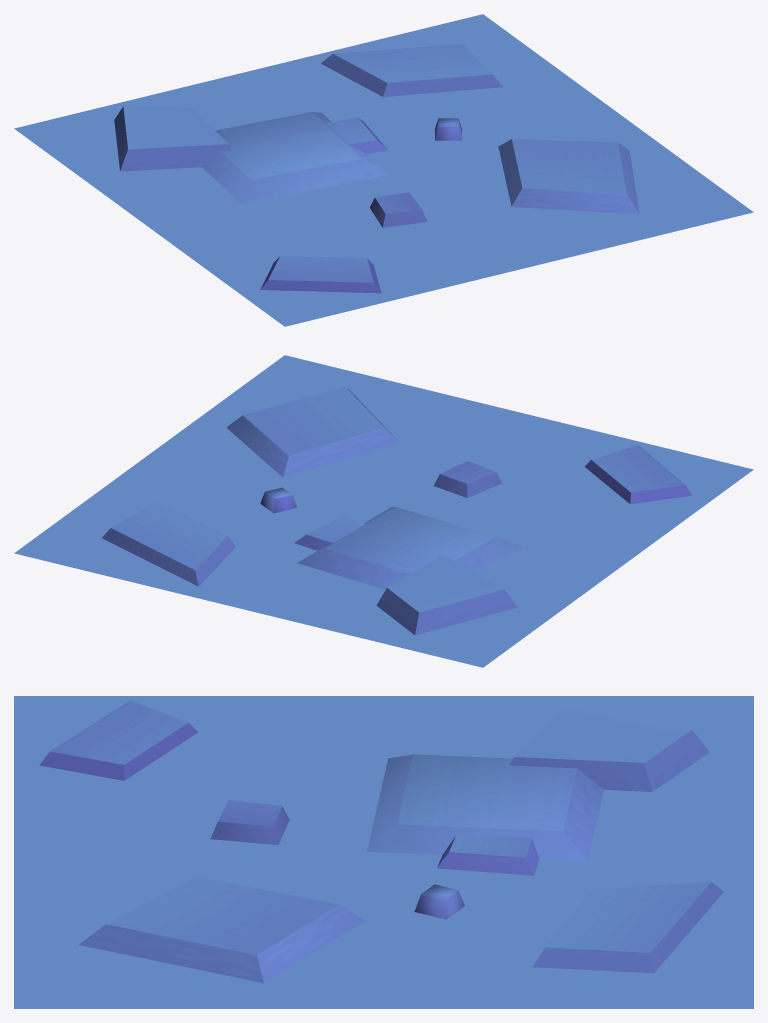
Rendered from Water-Pebbles.fbx.
3 views of the same model, one above another, from view 1: azimuth 30°, elevation 25°; view 2: azimuth 150°, elevation 25°; view 3: azimuth 270°, elevation 25° (orthographic). The views are drawn at different scales.
Visible parts, largest first — view 1: Floor_Pebbles; view 2: Floor_Pebbles; view 3: Floor_Pebbles.
Boxes of the visible parts, x1,y1,x2,y2 form: Floor_Pebbles: [14, 14, 753, 326]; Floor_Pebbles: [14, 355, 753, 667]; Floor_Pebbles: [14, 696, 753, 1008].
Size of the model in its own units: 1 by 0.0358 by 1.
